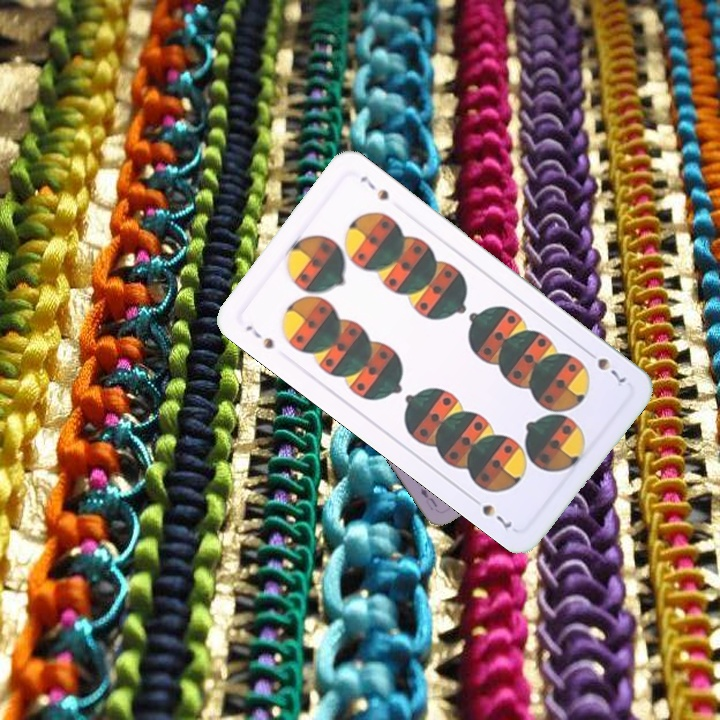S7: (581, 345, 628, 386), (241, 321, 277, 352)
